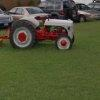Tractor: (3, 7, 85, 57)
